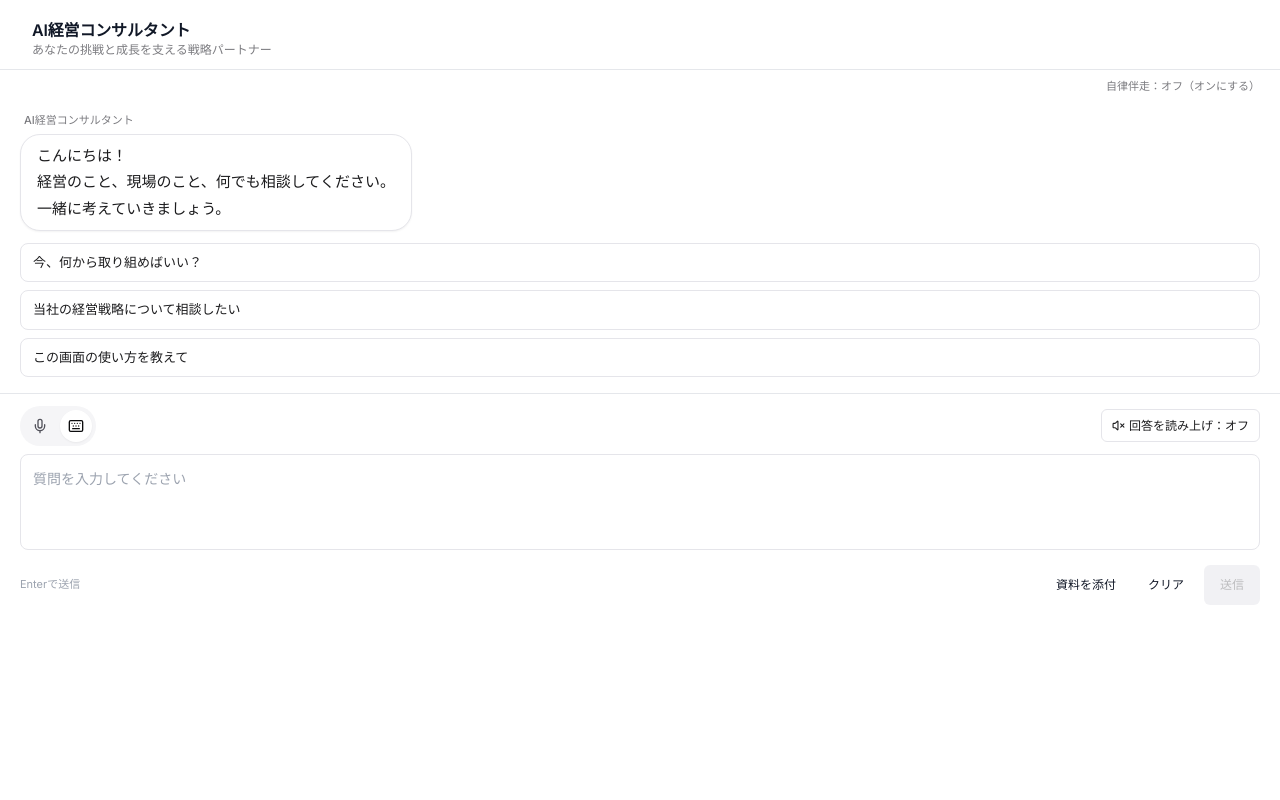
Scenario: 自律伴走：重複発話と上限 › STAGE2を始めた後は、次の一歩（経営戦略の生成）を案内する
The image size is (1280, 800).
expect the text box is enabled: met, box [20, 454, 1260, 550]
Click the button "自律伴走：オフ（オンにする）": (1183, 87) [1106, 78, 1260, 96]
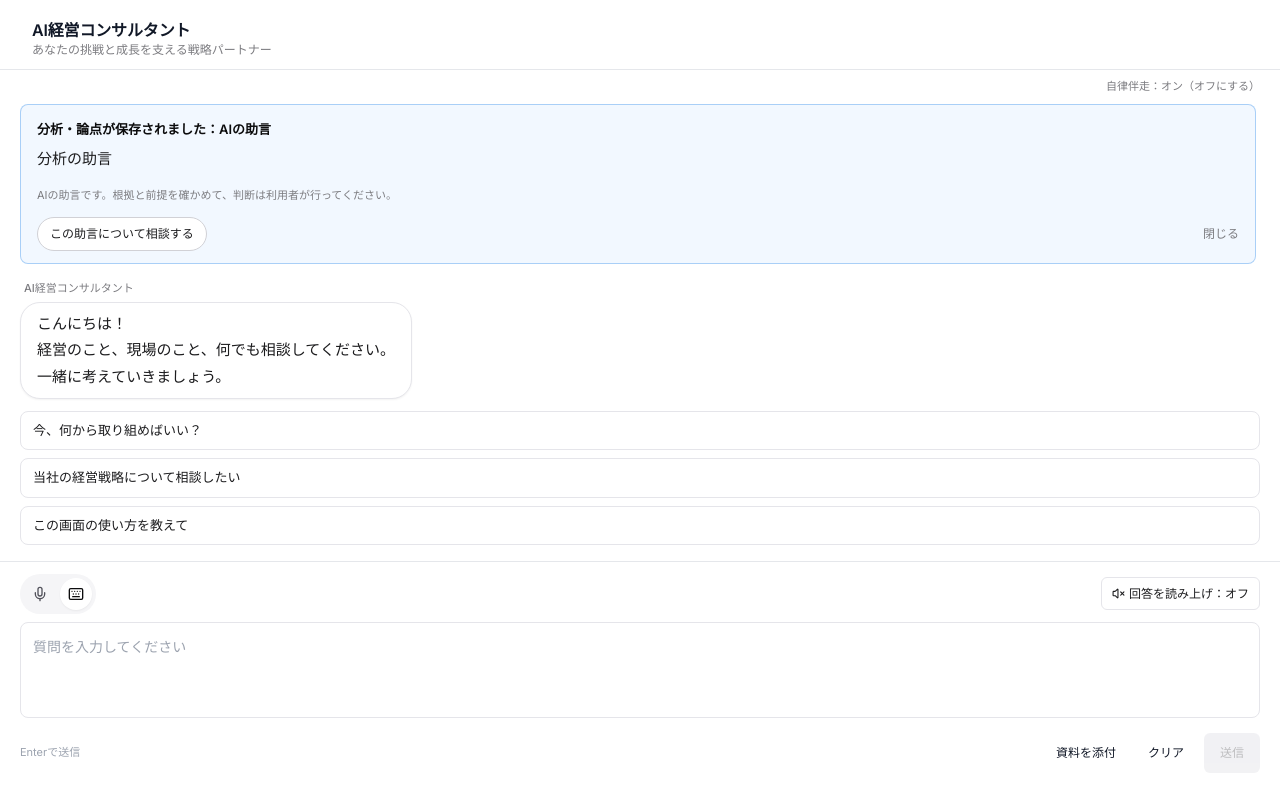
expect the element named "AI経営コンサルタントの助言" shows "分析の助言": met, box [37, 149, 112, 168]
Click the button "閉じる": (1221, 234) [1203, 222, 1239, 246]
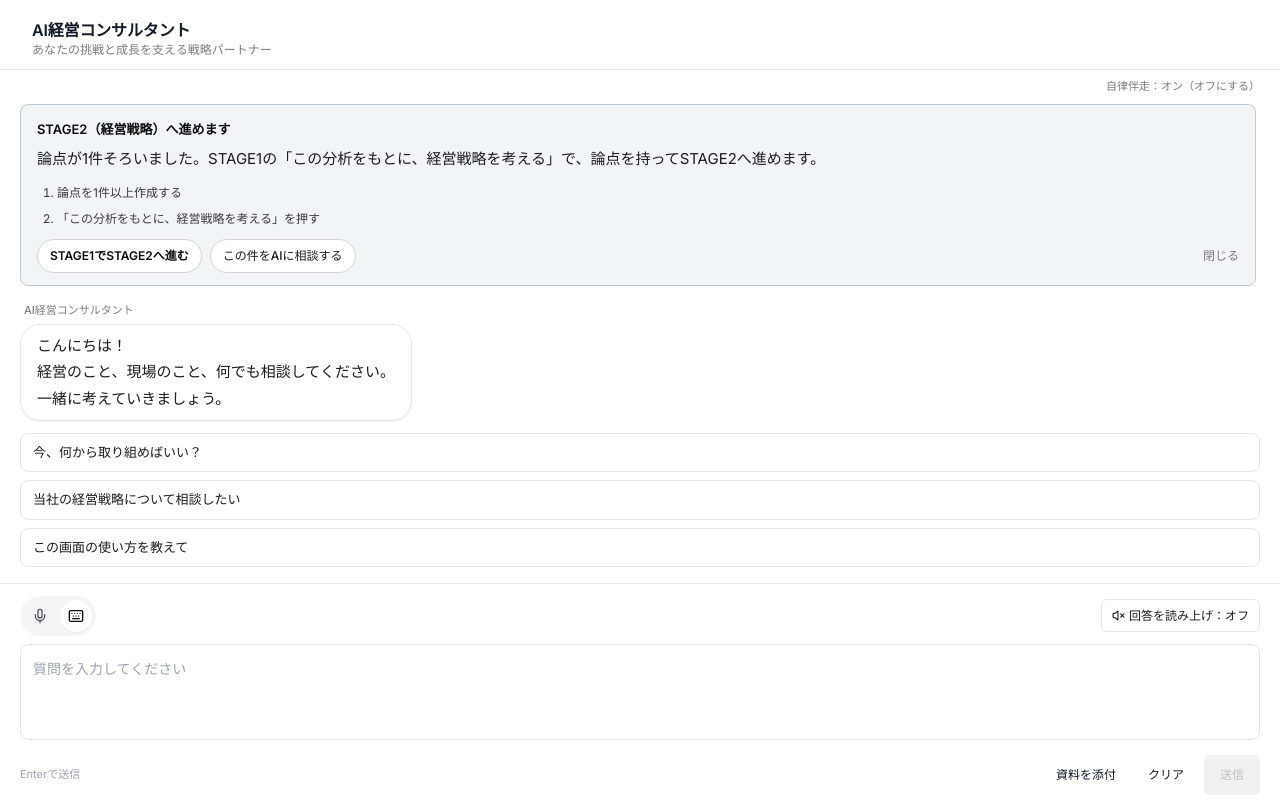
expect the element named "AI経営コンサルタントからの案内" shows "STAGE2（経営戦略）へ進めます": met, box [37, 121, 230, 137]
